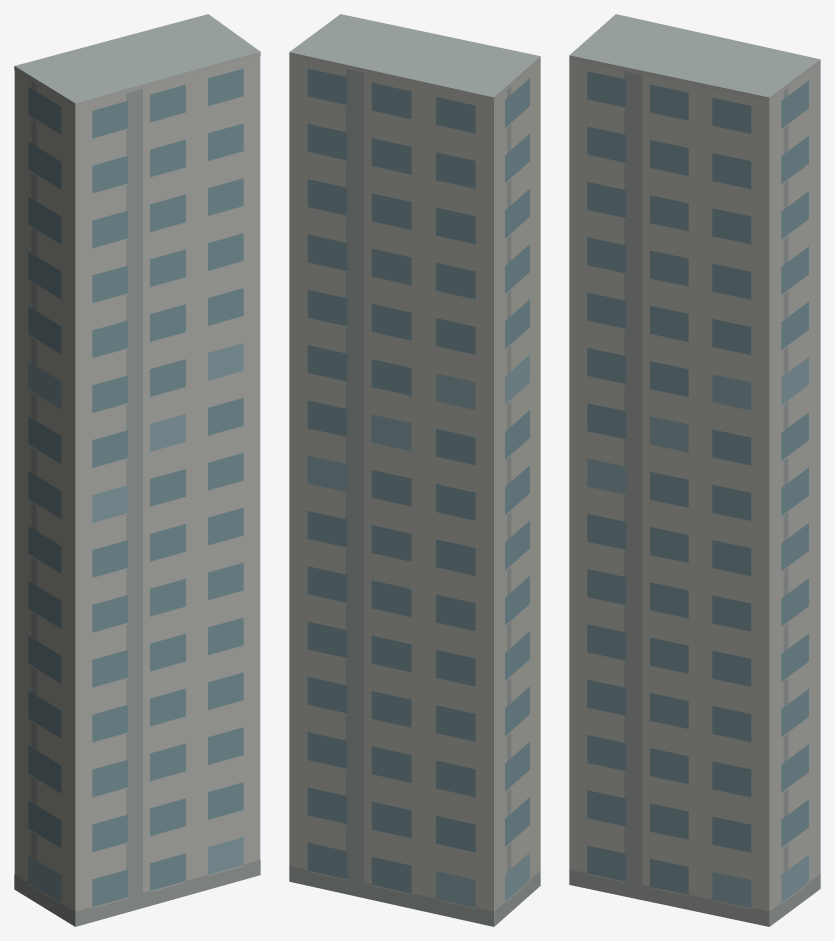
Rendered from survey-upis-33007586.glb.
The picture shows the model from 3 angles, left to right: view 1: azimuth 30°, elevation 25°; view 2: azimuth 150°, elevation 25°; view 3: azimuth 330°, elevation 25°; orthographic projection.
Visible parts, largest first — view 1: survey-upis-33007586.tmp; view 2: survey-upis-33007586.tmp; view 3: survey-upis-33007586.tmp.
Part boxes in pixels (left/top/right/bottom): survey-upis-33007586.tmp: left=14, top=14, right=260, bottom=926; survey-upis-33007586.tmp: left=289, top=14, right=540, bottom=926; survey-upis-33007586.tmp: left=569, top=14, right=820, bottom=926.
Size of the model in its own units: 11.59 by 45.75 by 5.88.
